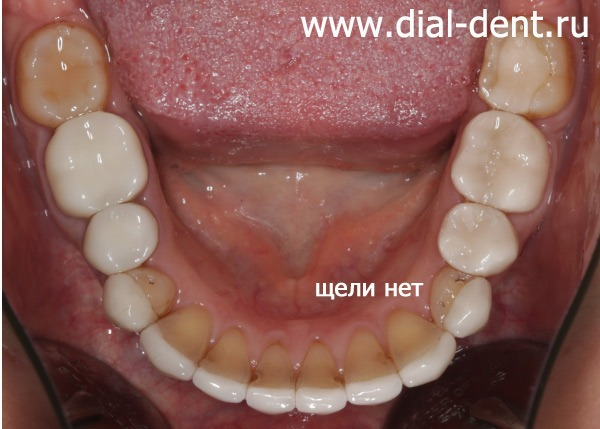LL1BC_decay: (430, 269, 491, 334)
LL1M_healthy: (452, 111, 552, 211)
LL2BC_healthy: (439, 204, 519, 271)
LL2M_healthy: (484, 40, 566, 112)
LLCI_decay: (297, 344, 345, 413)
LLC_healthy: (389, 313, 456, 386)
LLLI_healthy: (346, 335, 401, 405)
LR1BC_decay: (104, 269, 175, 327)
LR1M_healthy: (45, 112, 147, 210)
LR2BC_healthy: (83, 203, 158, 270)
LR2M_healthy: (18, 23, 107, 118)
LRCI_decay: (247, 343, 294, 414)
LRC_healthy: (142, 310, 206, 378)
LRLI_healthy: (197, 331, 249, 402)
